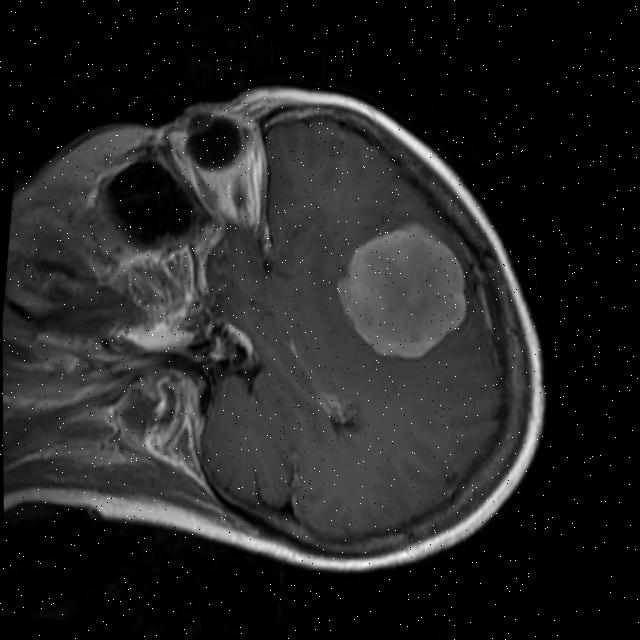Meningioma: (329, 211, 476, 368)
